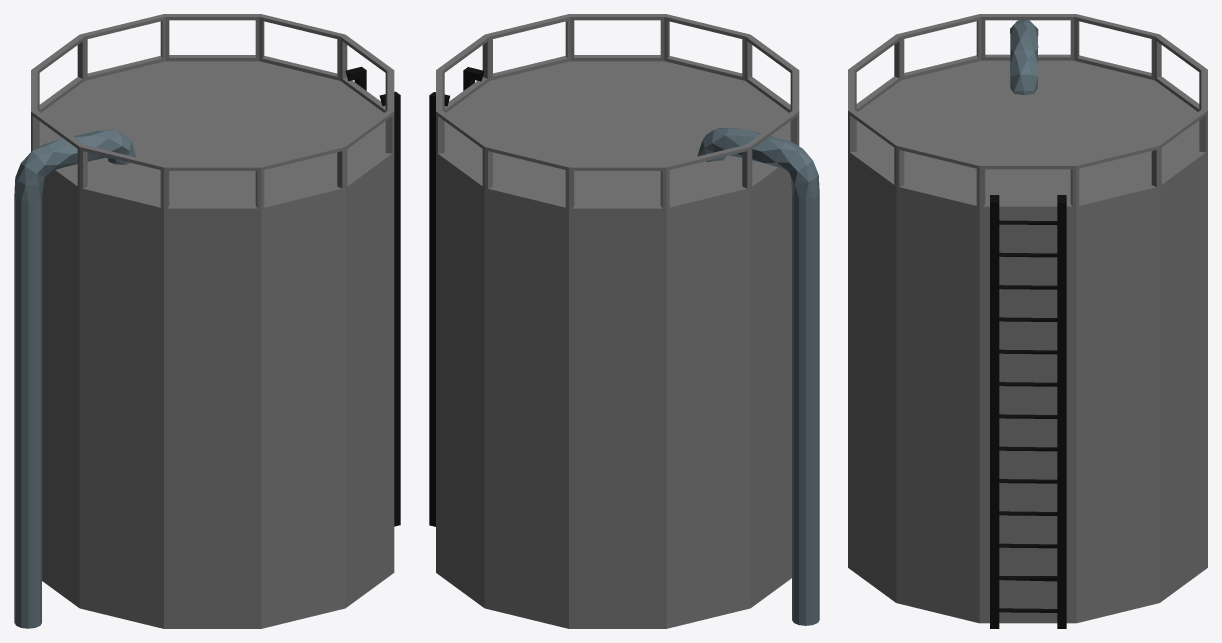
File: SM_Factory_Tank_03.glb
3 renders of one model, left to right at view 1: azimuth 30°, elevation 25°; view 2: azimuth 150°, elevation 25°; view 3: azimuth 270°, elevation 25°, orthographic.
Visible parts, largest first — view 1: SM_Factory_Tank_03; view 2: SM_Factory_Tank_03; view 3: SM_Factory_Tank_03.
Part boxes in pixels (x1=…): SM_Factory_Tank_03: x1=14, y1=14, x2=400, y2=628; SM_Factory_Tank_03: x1=429, y1=14, x2=819, y2=628; SM_Factory_Tank_03: x1=848, y1=14, x2=1207, y2=628.
Bounding box in the file's own units: 4.6 × 5.82 × 3.95.
Materials: 1 (1 with a texture image).
